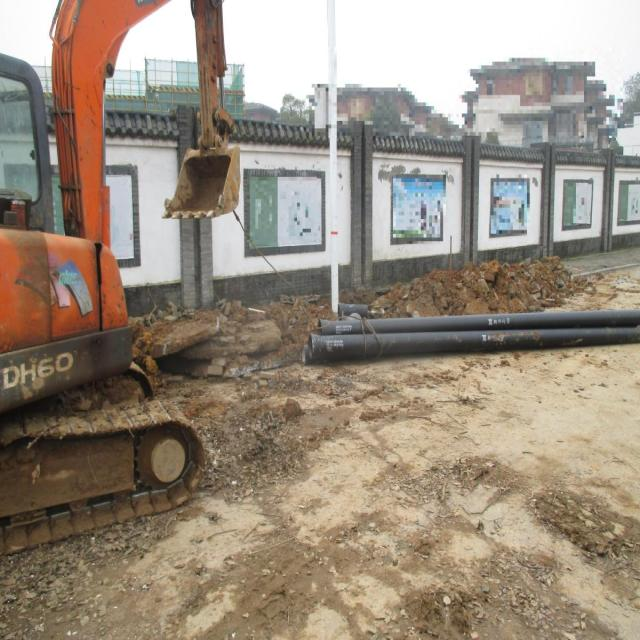excavator: (0, 0, 249, 567)
